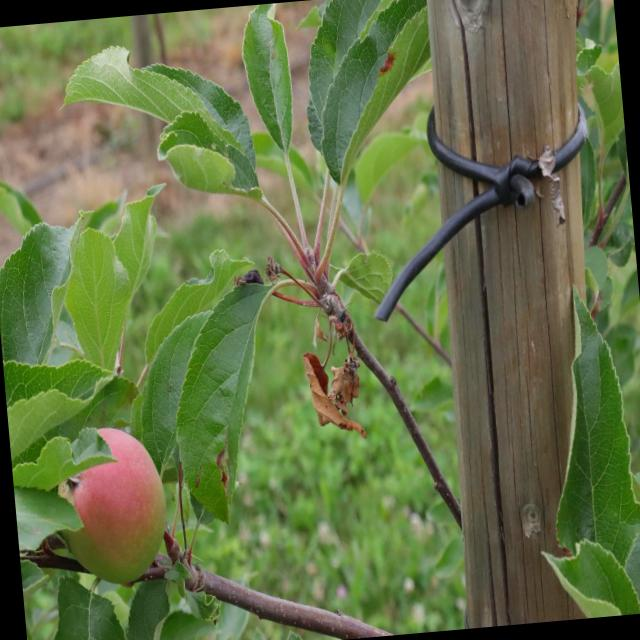-FireBlight-: (296, 301, 368, 439)
